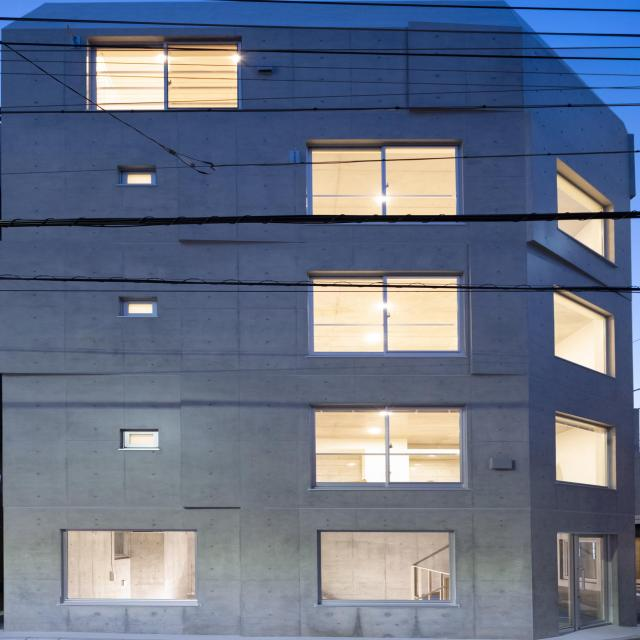door: (557, 534, 616, 634)
window: (308, 144, 464, 218), (308, 277, 464, 351), (310, 410, 466, 484), (92, 41, 238, 111), (63, 530, 200, 604), (317, 530, 451, 605), (554, 292, 611, 376), (555, 169, 605, 259), (557, 415, 610, 486), (125, 429, 162, 447), (128, 303, 156, 316), (123, 174, 153, 183)
